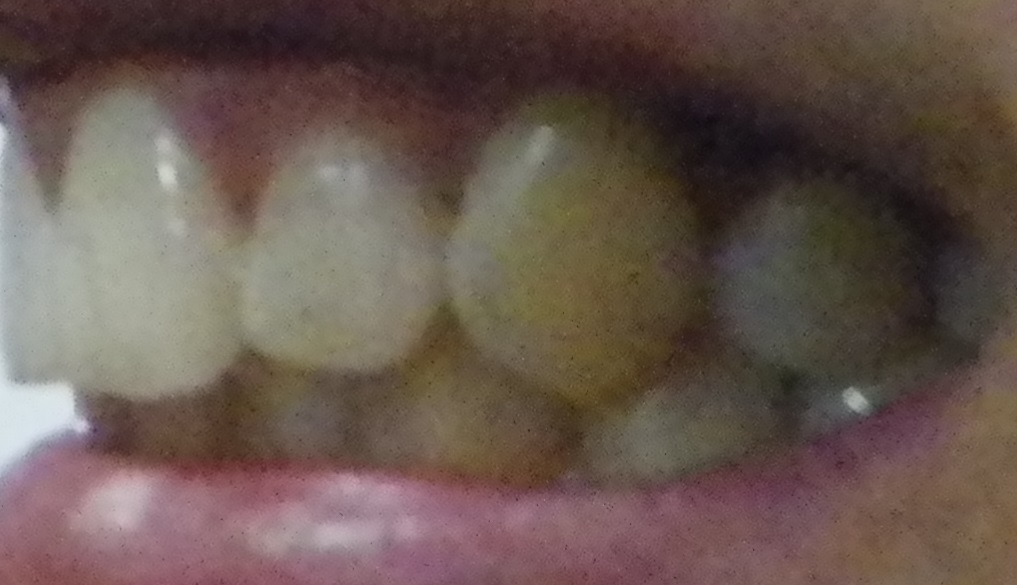boca: (1, 80, 947, 478)
